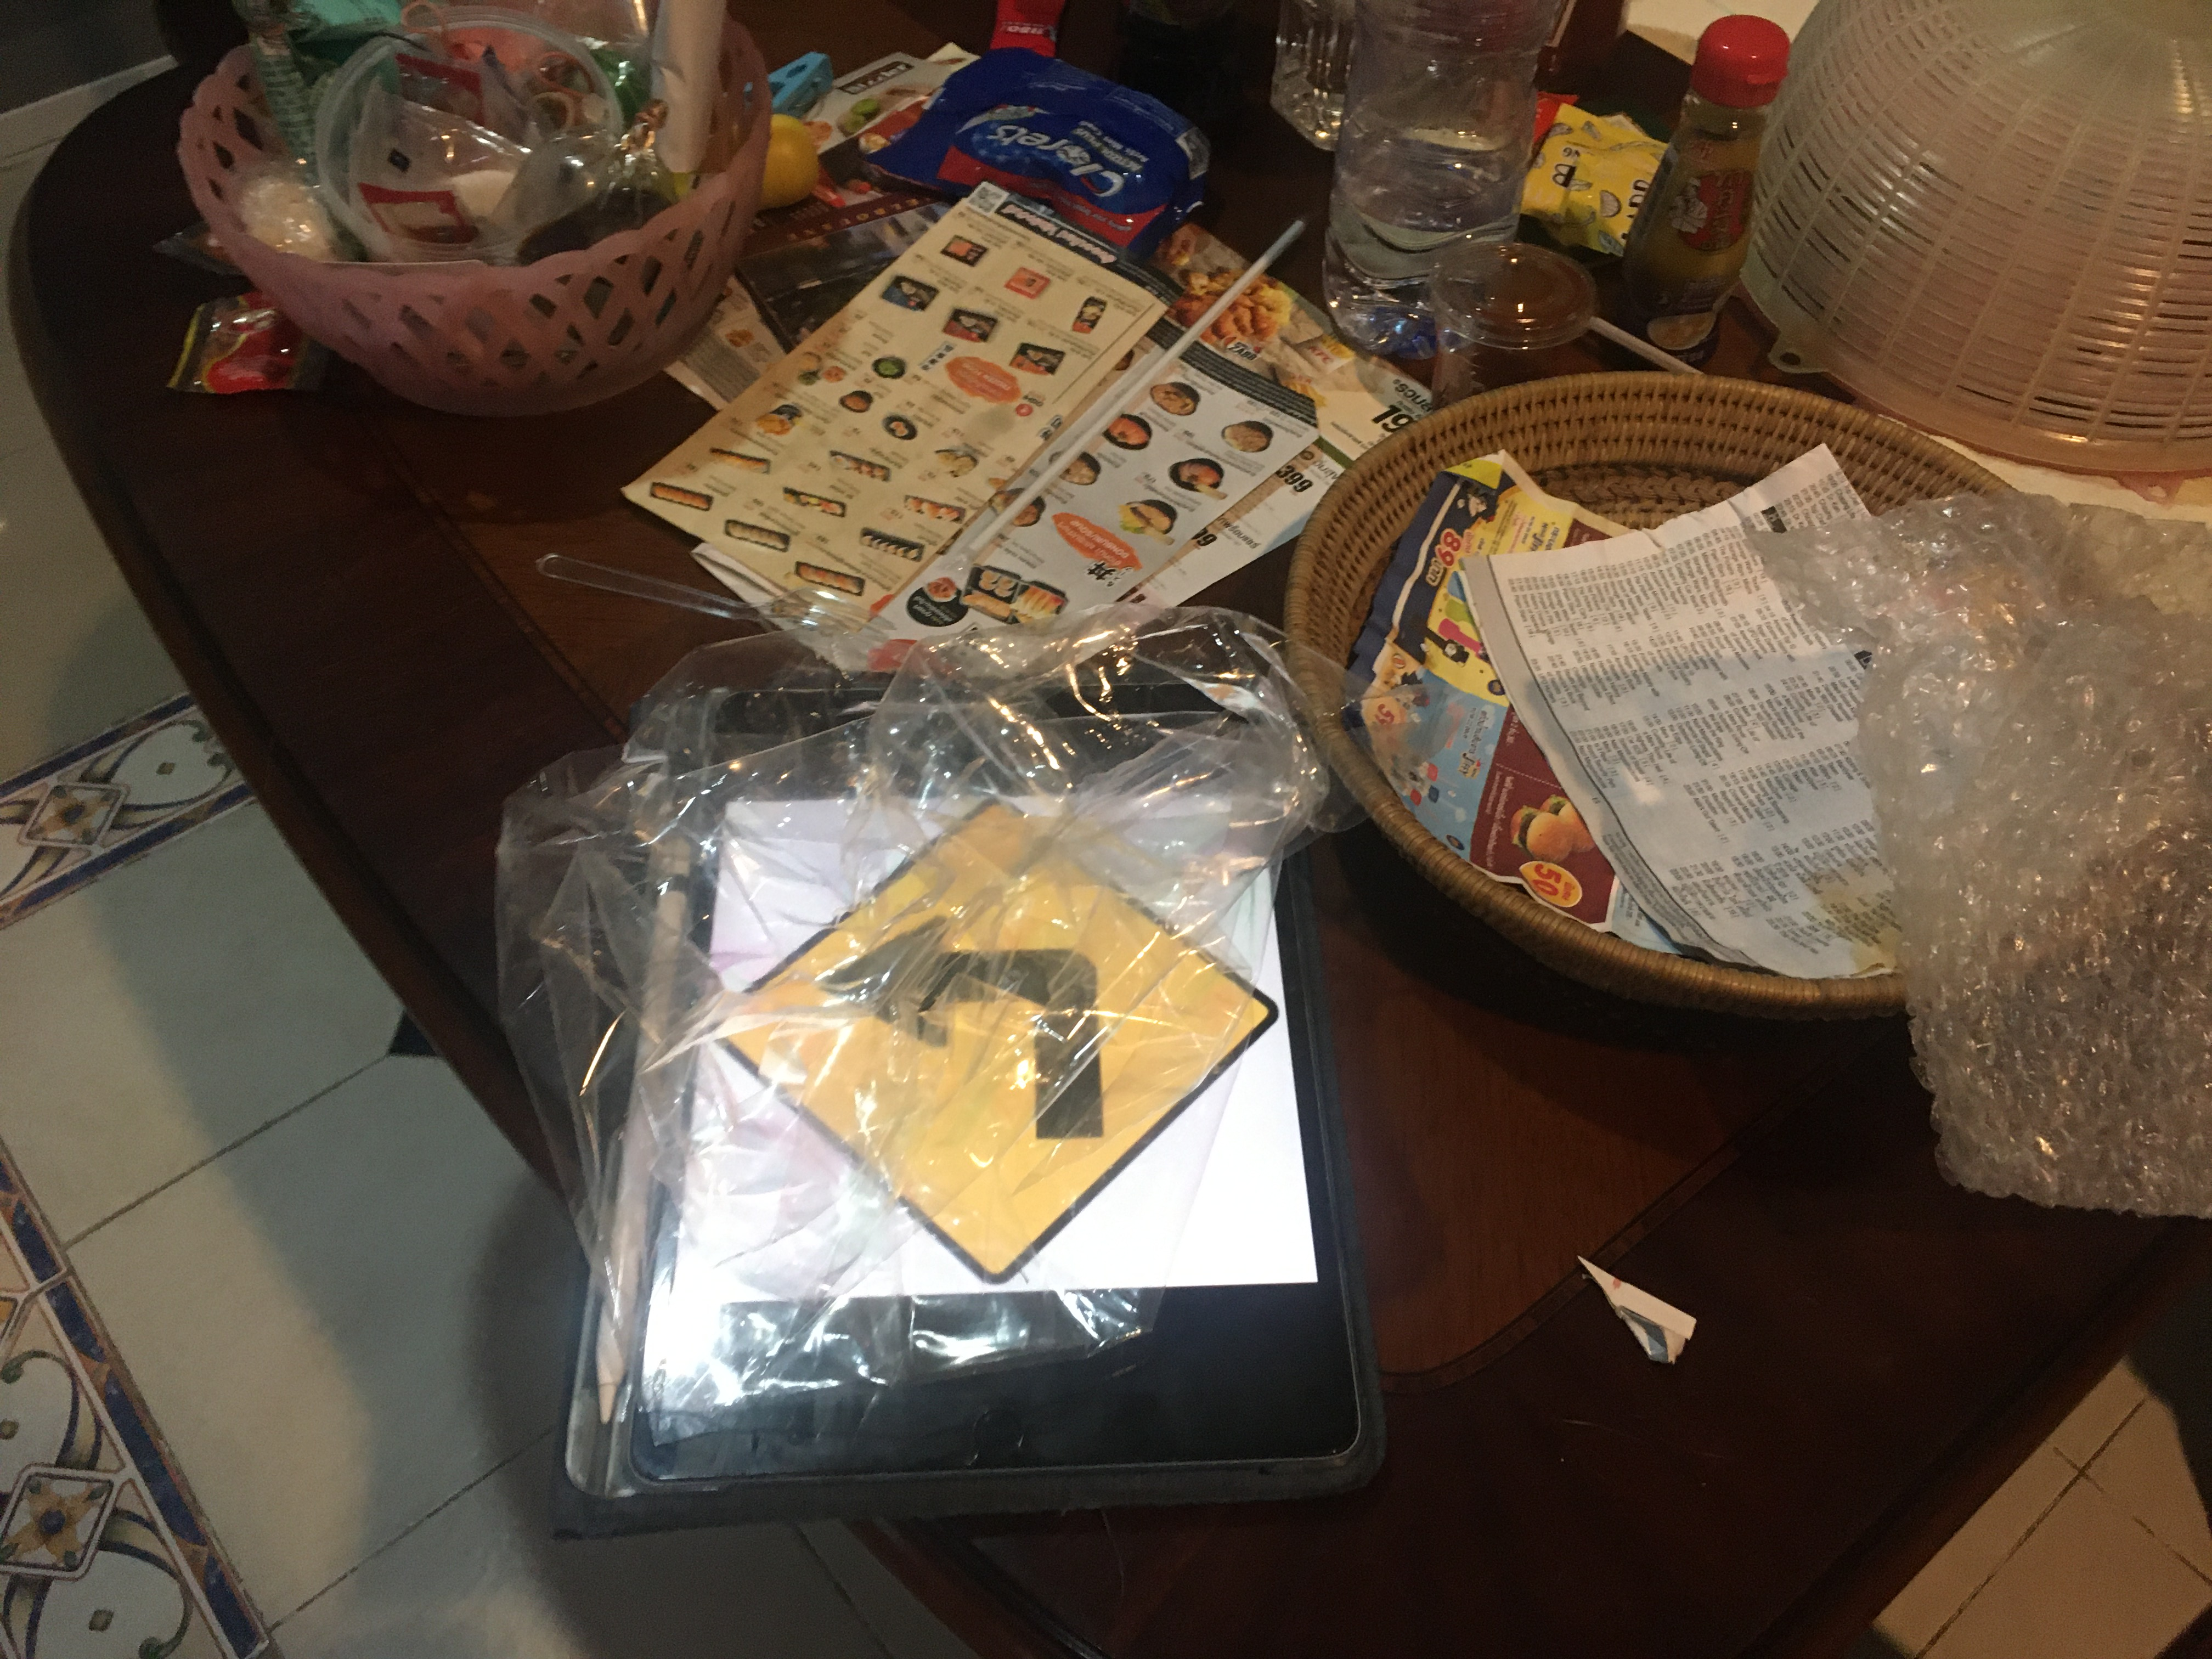left: (688, 781, 1302, 1305)
